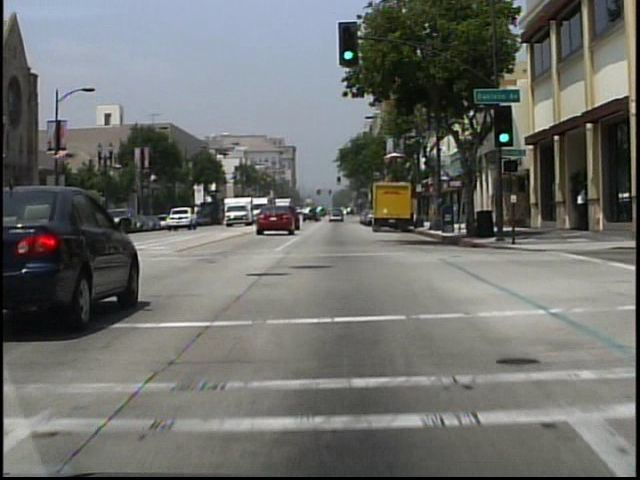person: (574, 190, 587, 231)
